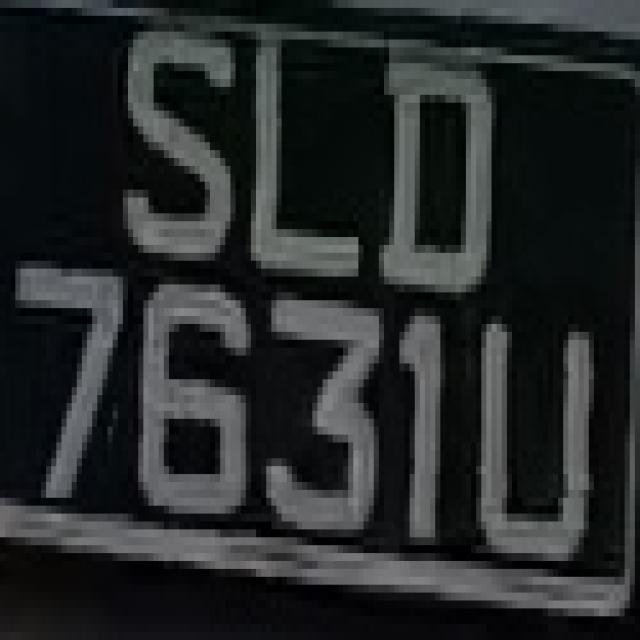1: (384, 245, 451, 569)
3: (241, 229, 394, 561)
6: (118, 253, 256, 529)
7: (0, 229, 128, 545)
D: (358, 32, 496, 308)
L: (241, 8, 389, 300)
S: (107, 24, 240, 292)
U: (461, 276, 604, 592)
